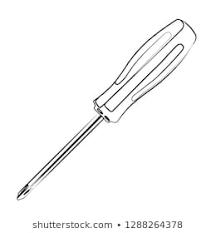screwdriver: (16, 16, 196, 199)
